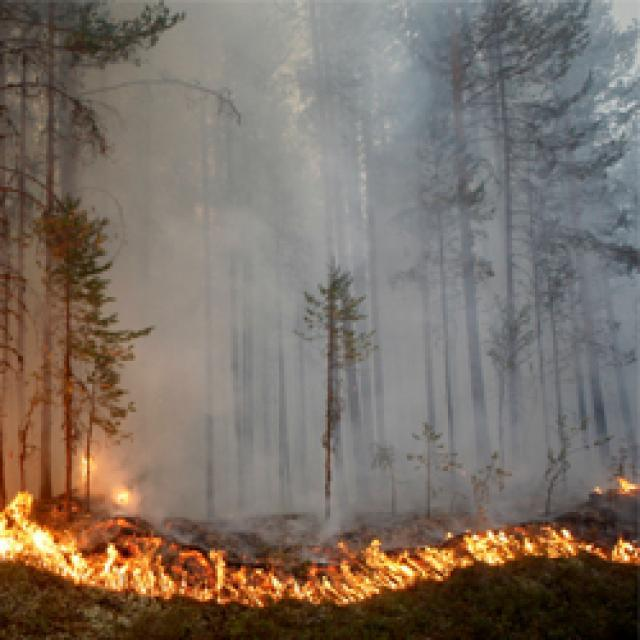Fire: (0, 490, 640, 622), (592, 469, 638, 496), (78, 452, 100, 484)
Smoke: (13, 0, 640, 522)
